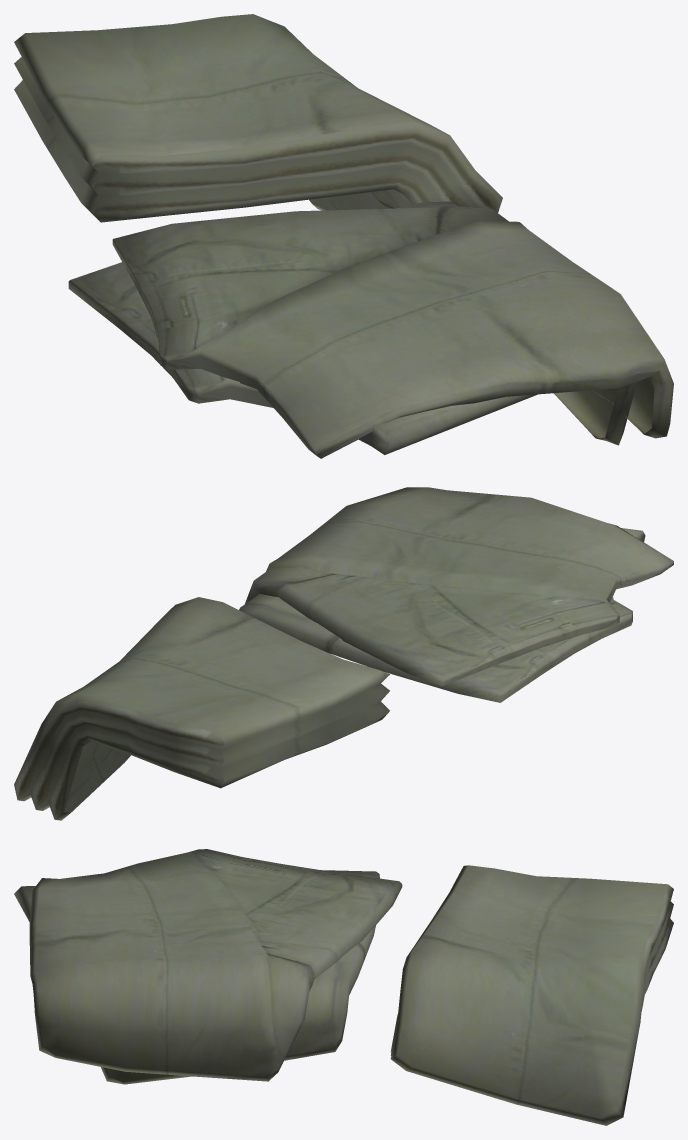
File: clothing_pants_draping01.glb
The picture shows the model from 3 angles, top to bottom: view 1: azimuth 30°, elevation 25°; view 2: azimuth 150°, elevation 25°; view 3: azimuth 270°, elevation 25°; orthographic projection. The views are drawn at different scales.
Visible parts, largest first — view 1: clothing_pants_draping01; view 2: clothing_pants_draping01; view 3: clothing_pants_draping01.
Boxes of the visible parts, x1,y1,x2,y2 form: clothing_pants_draping01: (14,14,673,458); clothing_pants_draping01: (14,487,673,820); clothing_pants_draping01: (14,849,673,1125).
Bounding box in the file's own units: 0.3357 × 0.1338 × 0.5437.
Materials: 1 (1 with a texture image).
